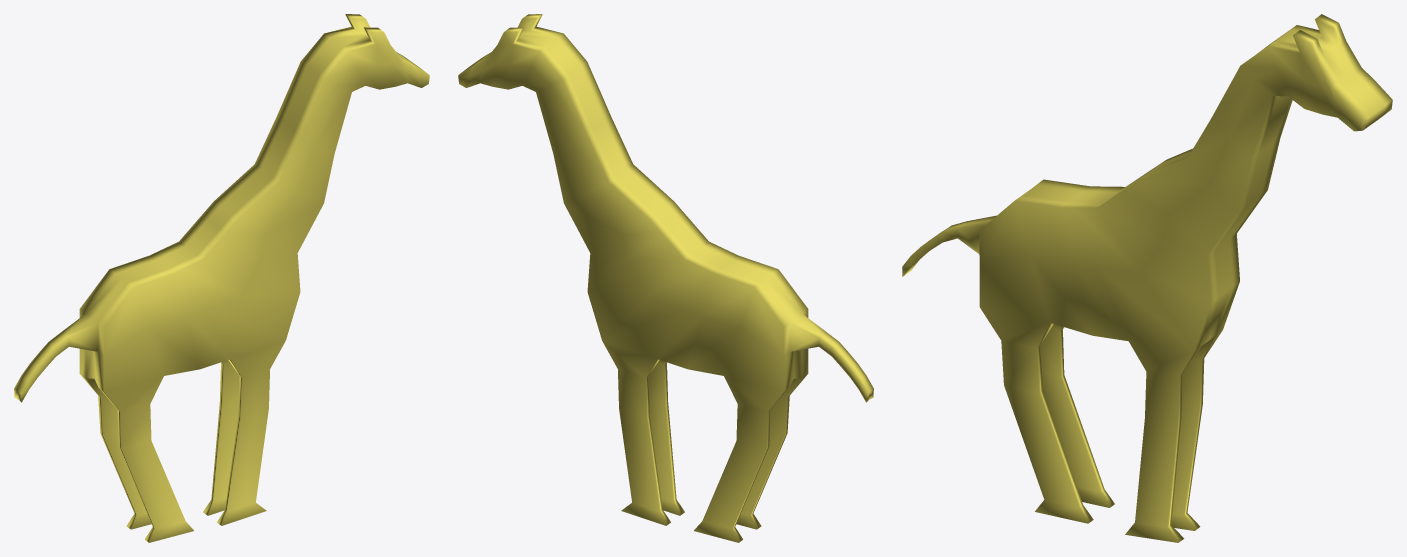
Rendered from held1.glb.
The picture shows the model from 3 angles, left to right: view 1: azimuth 30°, elevation 25°; view 2: azimuth 150°, elevation 25°; view 3: azimuth 330°, elevation 25°; orthographic projection. The views are drawn at different scales.
Parts seen in each view (by area): view 1: Plane.001; view 2: Plane.001; view 3: Plane.001.
Boxes of the visible parts, x1,y1,x2,y2 form: Plane.001: [14, 14, 429, 542]; Plane.001: [458, 14, 873, 542]; Plane.001: [902, 14, 1392, 542].
Bounding box in the file's own units: 2.12 × 2.34 × 0.2256.
